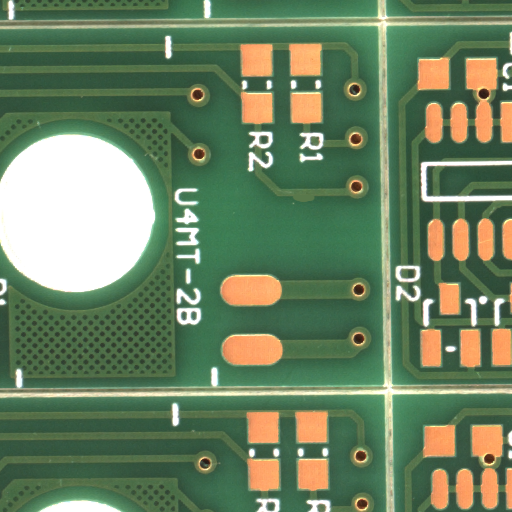Spur: (303, 197, 330, 208)
